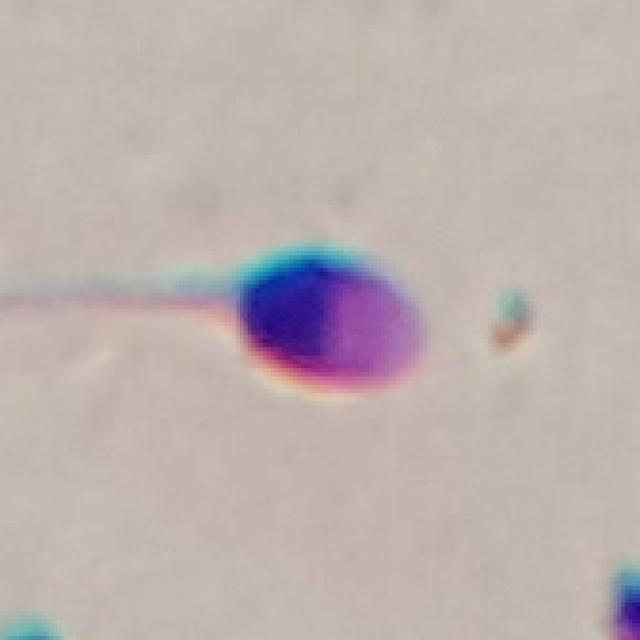normal sperm: (119, 249, 427, 393)
